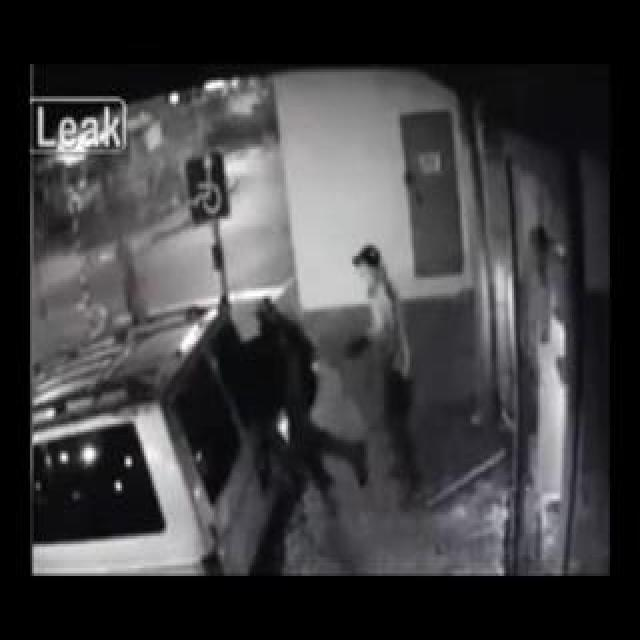thief: (237, 270, 342, 413), (352, 242, 434, 346)
